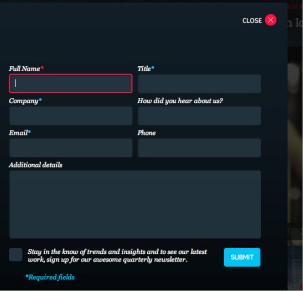button: (223, 247, 261, 268)
checkbox: (7, 247, 25, 263)
checkbox_with_label: (5, 245, 207, 266)
field: (7, 169, 262, 240), (7, 104, 134, 127), (135, 105, 262, 127), (6, 137, 133, 158), (135, 137, 262, 158), (8, 73, 132, 94), (137, 74, 261, 94)
field_with_label: (6, 161, 264, 242), (136, 97, 264, 130), (5, 98, 135, 129), (7, 65, 133, 96), (135, 130, 264, 160), (4, 130, 134, 159), (134, 66, 263, 95)
